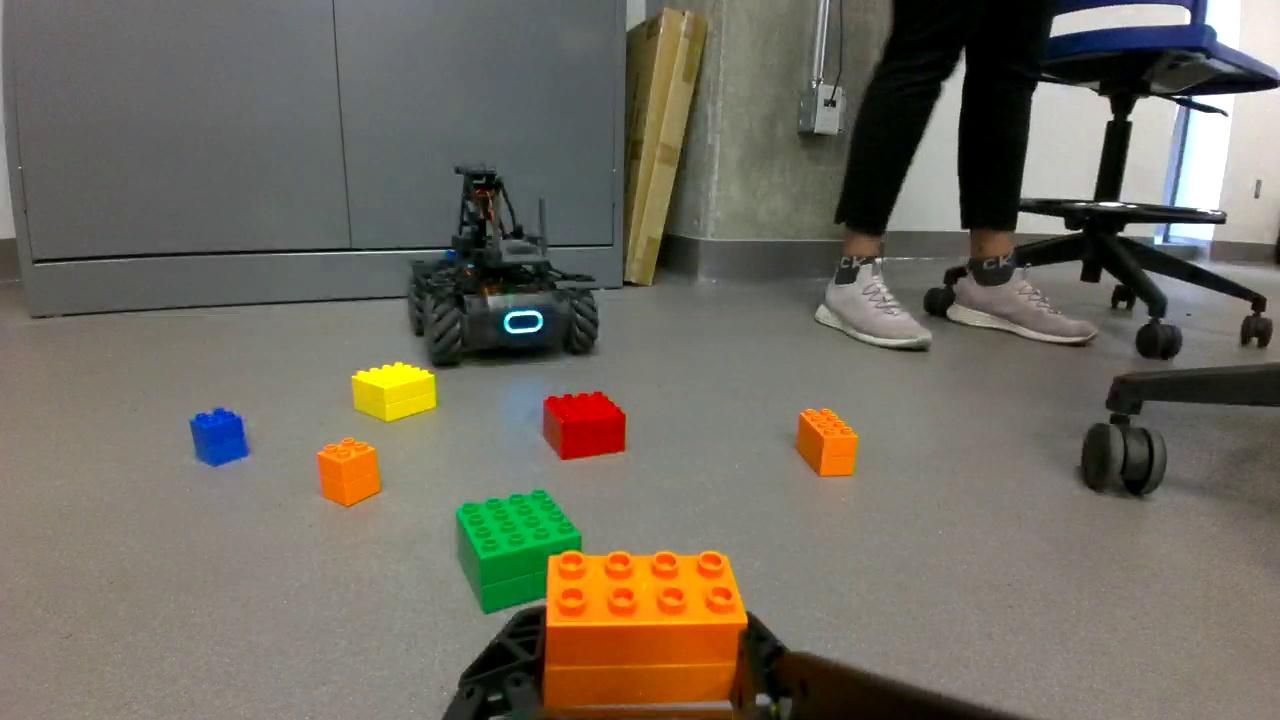2x2lego: (313, 437, 384, 510), (189, 406, 252, 471)
2x4lego: (541, 553, 749, 714), (793, 407, 860, 479)
4x4lego: (454, 487, 583, 616), (540, 391, 630, 461), (348, 359, 439, 424)
